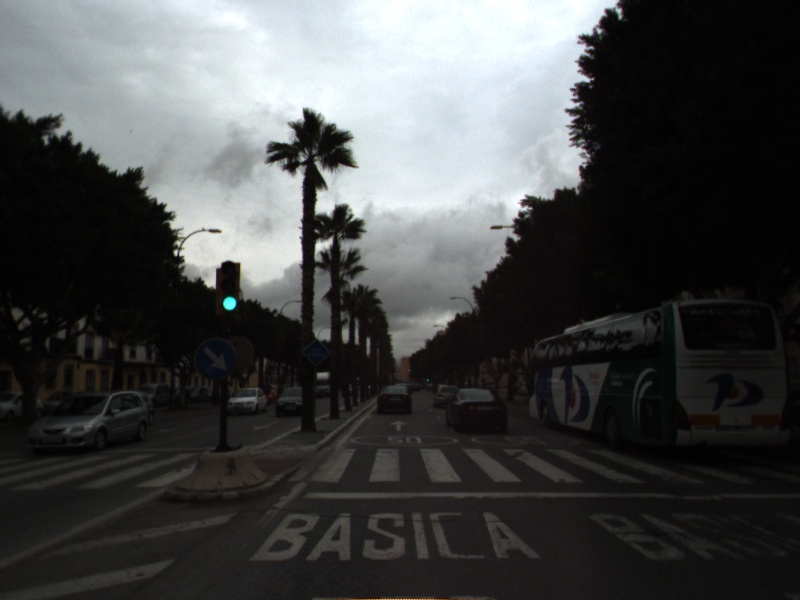STRAIGHT: (388, 418, 411, 433)
